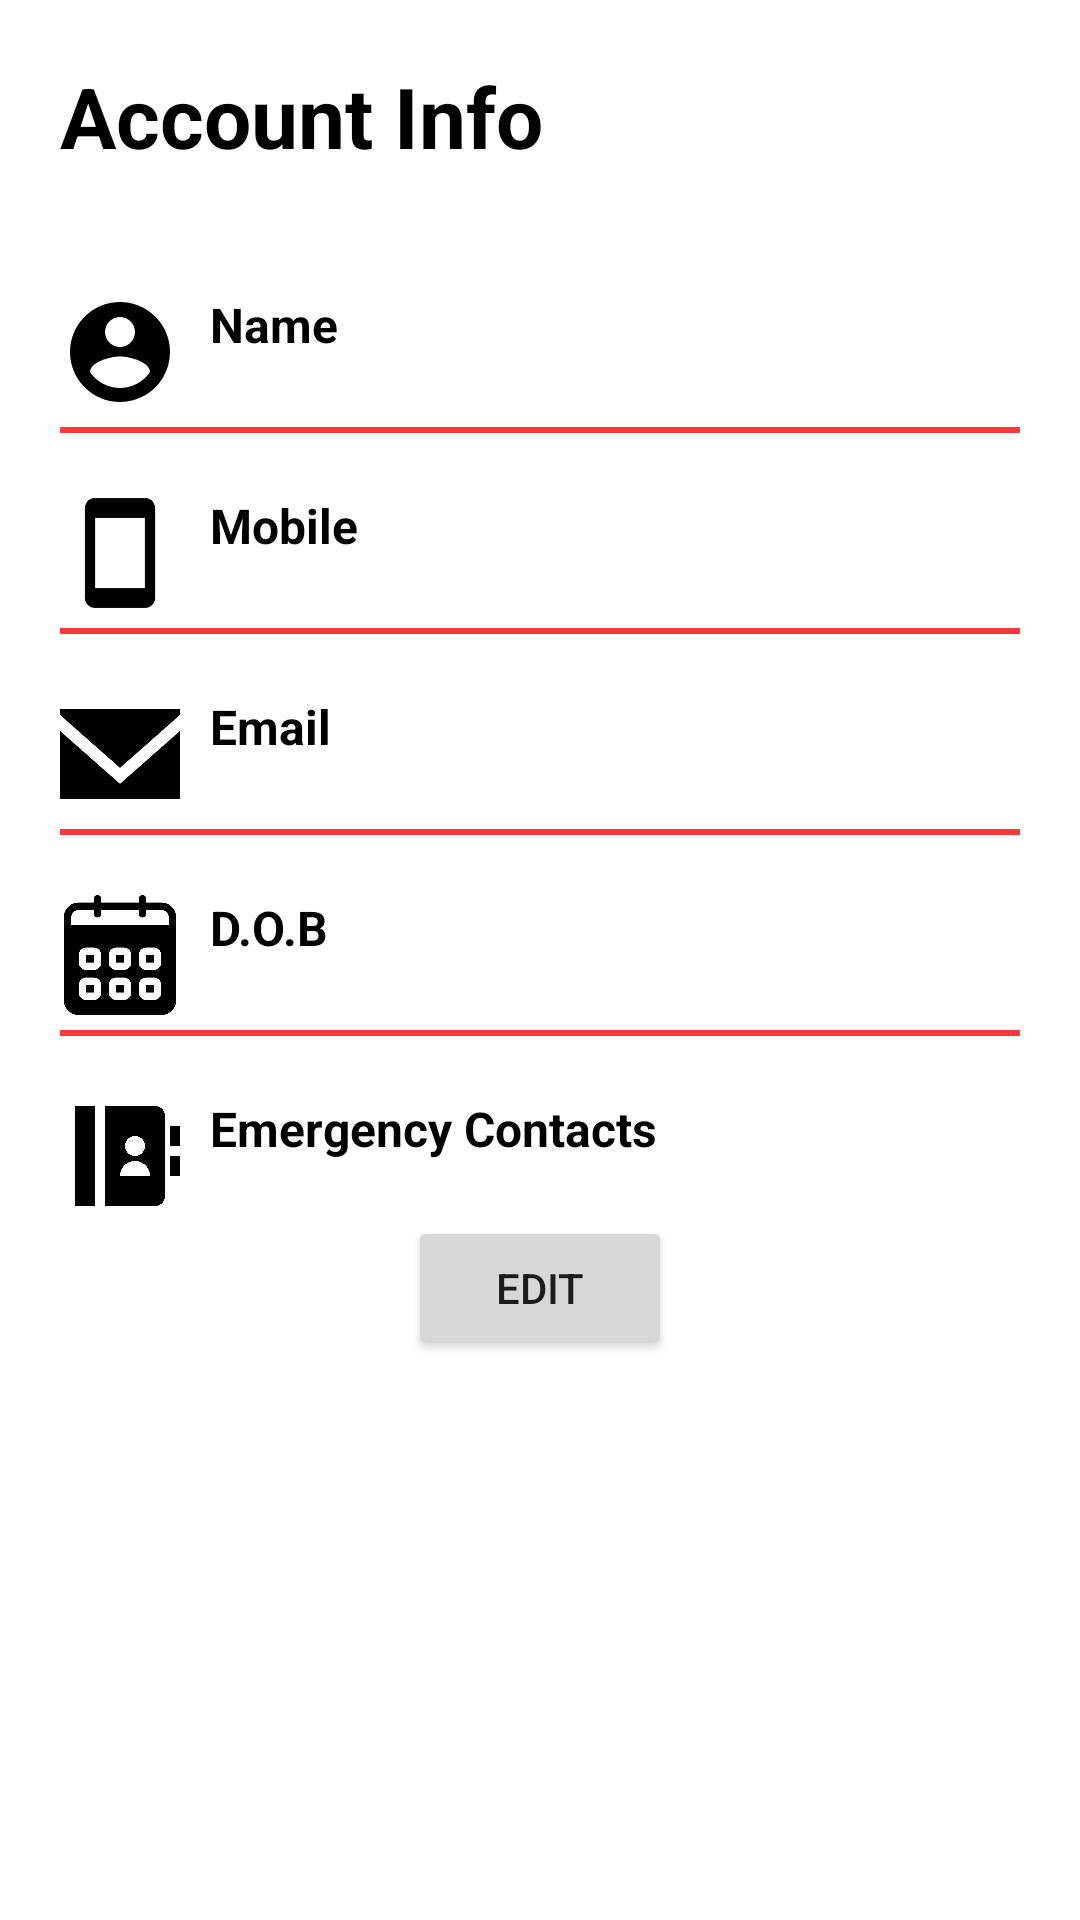

Icons on this 1080*1920 Android screen, each with the point to tap as (x,y):
calendar: (120,955)
personal details: (120,352)
